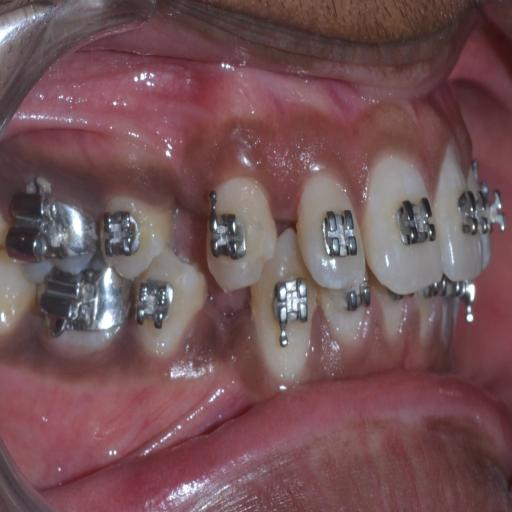correct_brace: (89, 183, 177, 285), (395, 190, 437, 246), (318, 210, 360, 262), (205, 210, 247, 261)
incorrect_brace: (290, 166, 370, 295), (94, 209, 142, 258)
